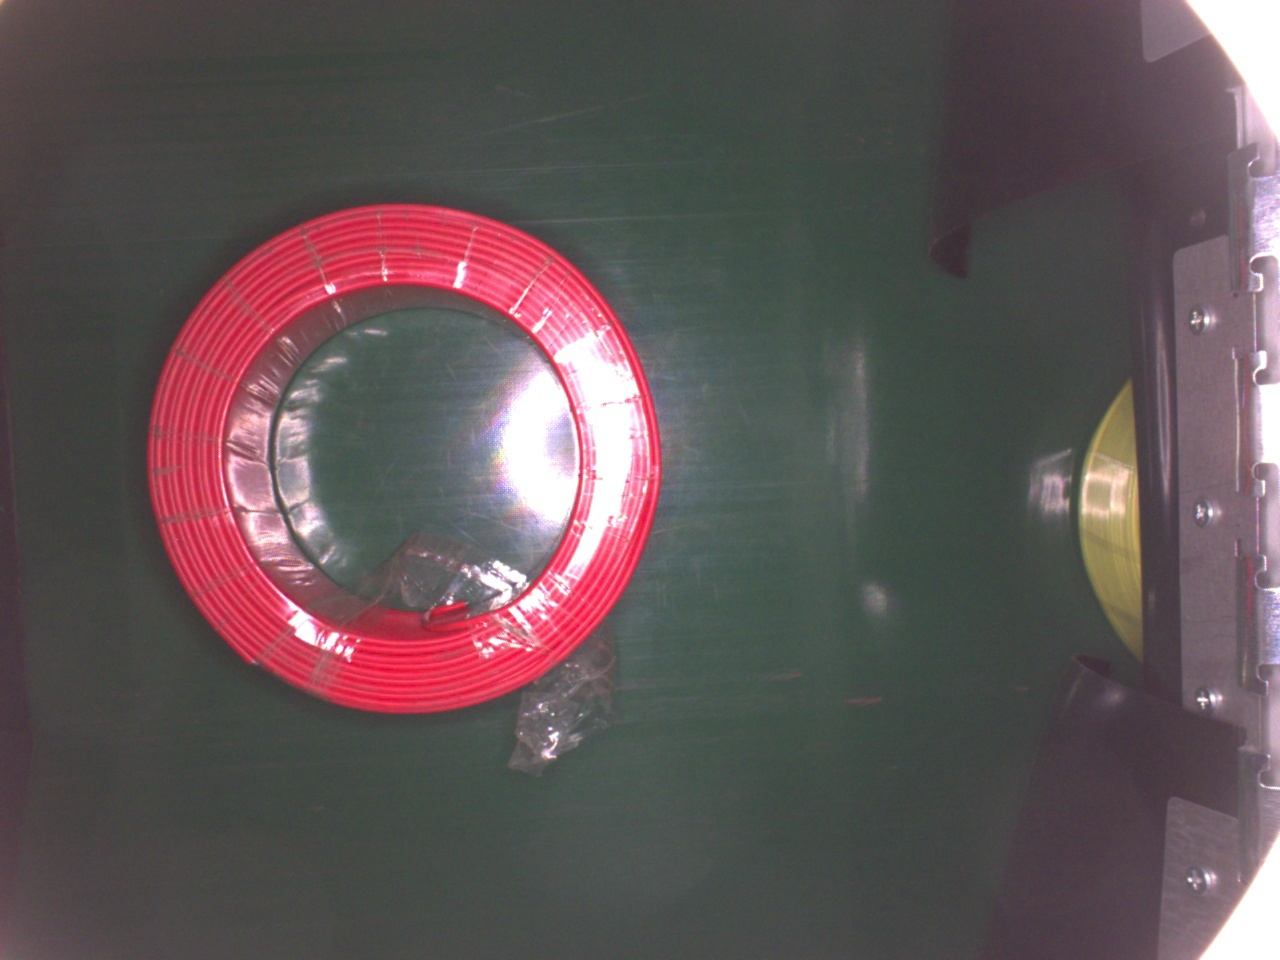red: (146, 199, 666, 720)
